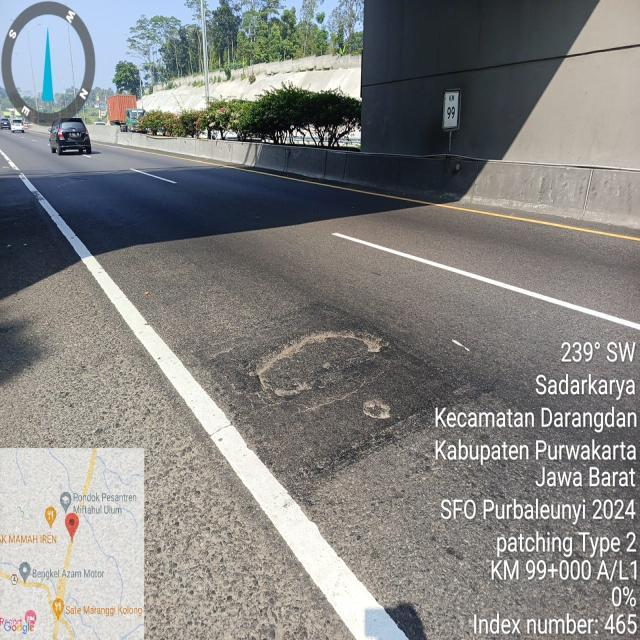Buraco: (242, 326, 393, 401), (359, 396, 395, 422)
